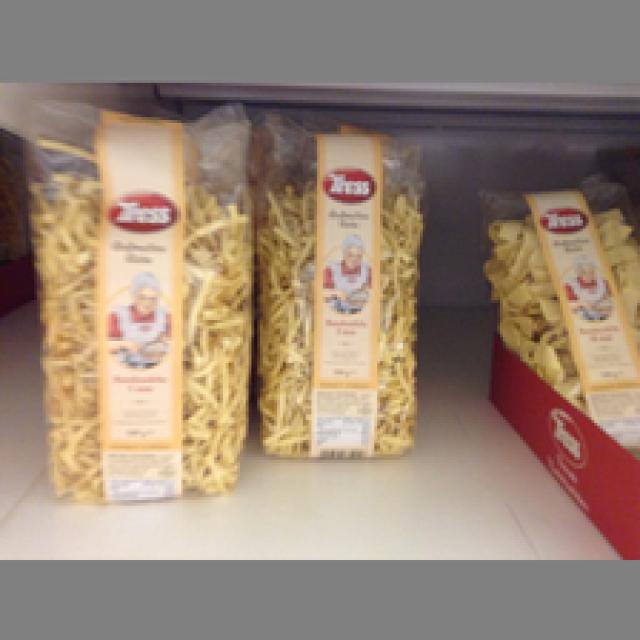groceries: (17, 91, 252, 503), (251, 106, 423, 457), (480, 168, 637, 443)
